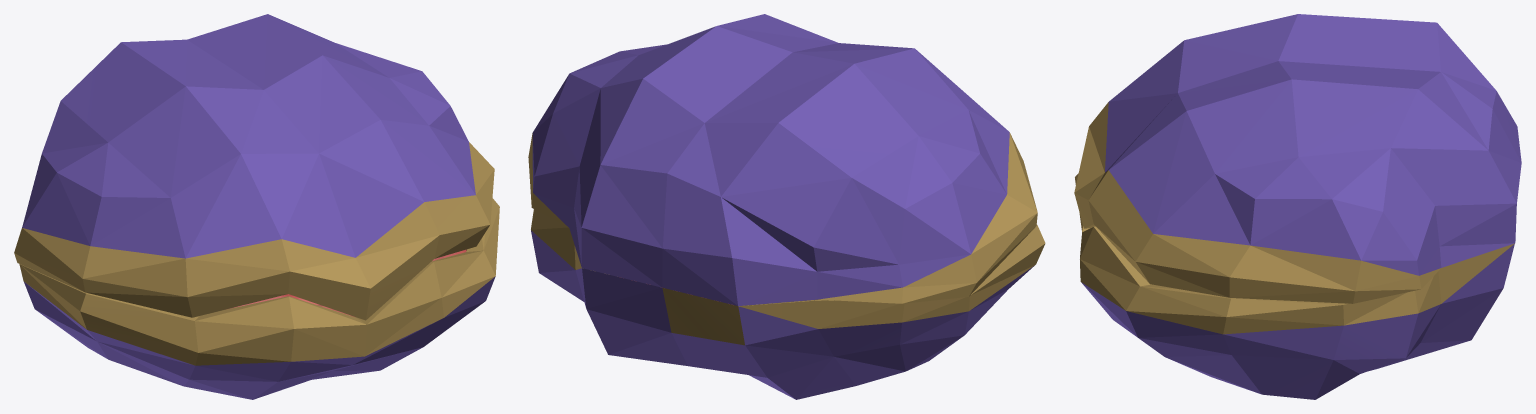
Rendered from treasureChestRoyalClam_overworld.fbx.
3 views of the same model, side by side, from view 1: azimuth 30°, elevation 25°; view 2: azimuth 150°, elevation 25°; view 3: azimuth 270°, elevation 25° (orthographic). The views are drawn at different scales.
Visible parts, largest first — view 1: treasureChest_clamLid, treasureChestRoyalClam_overworld; view 2: treasureChest_clamLid, treasureChestRoyalClam_overworld; view 3: treasureChest_clamLid, treasureChestRoyalClam_overworld.
Boxes of the visible parts, x1,y1,x2,y2 form: treasureChest_clamLid: (14, 14, 494, 320); treasureChestRoyalClam_overworld: (19, 198, 499, 399); treasureChest_clamLid: (528, 14, 1037, 306); treasureChestRoyalClam_overworld: (531, 209, 1045, 399); treasureChest_clamLid: (1074, 14, 1521, 303); treasureChestRoyalClam_overworld: (1075, 173, 1514, 399).
Size of the model in its own units: 2.06 by 1.36 by 1.85.
